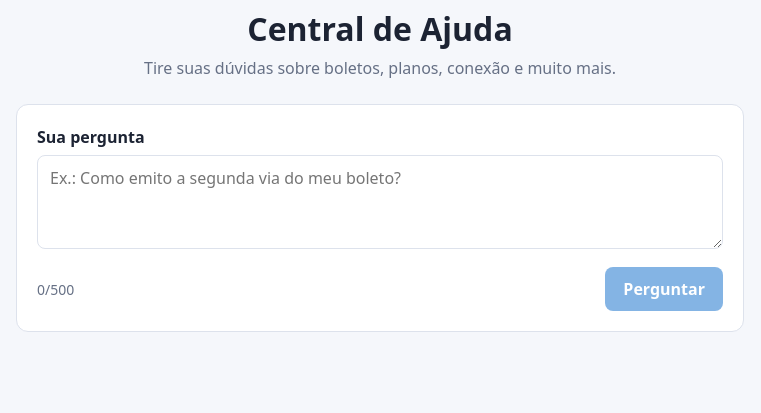
it: AskPage › mostra erro amigável quando a consulta falha
In the text box labelled "Sua pergunta": (380, 202) [37,155,723,249], type "Internet lenta"
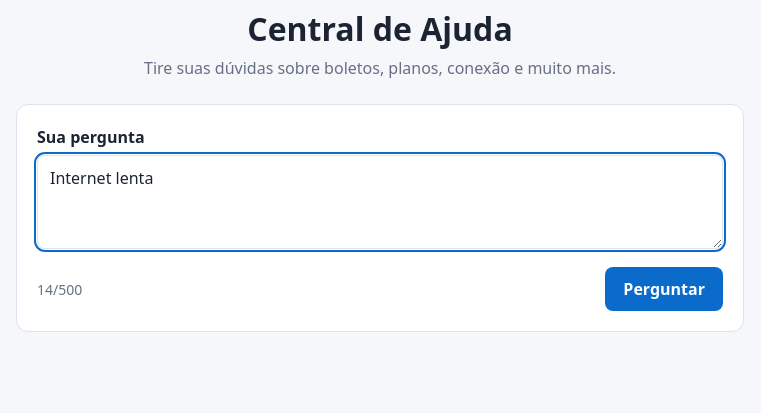
Click the button "Perguntar": (664, 289) [605,267,723,311]
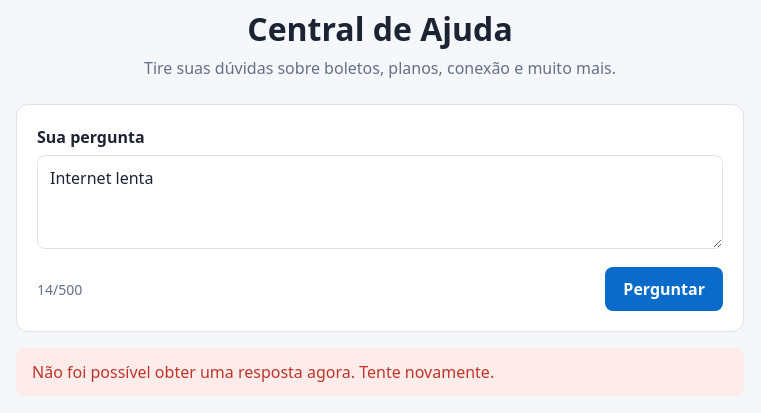
Result: the button "Perguntar" is enabled at [605,267,723,311]
Result: the text "Não foi possível obter uma resposta agora. Tente novamente." is shown at [16,348,744,396]
